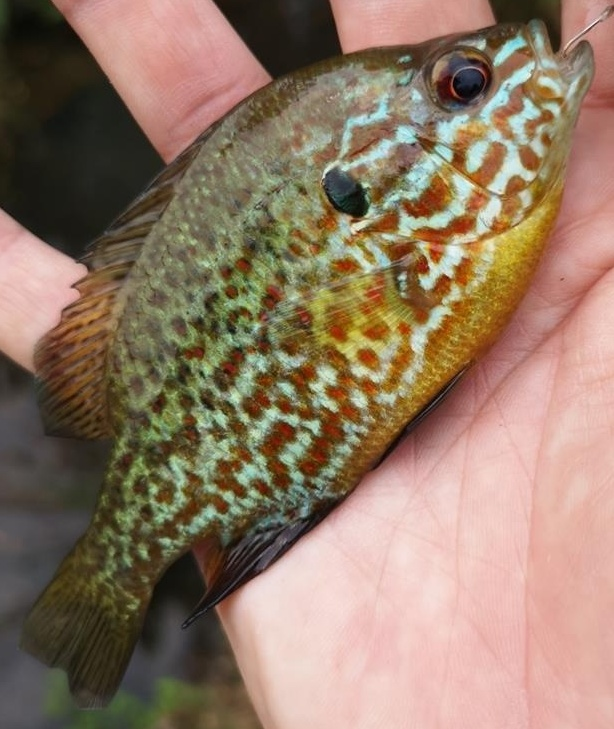Lepomis gibbosus: (20, 20, 594, 709)
